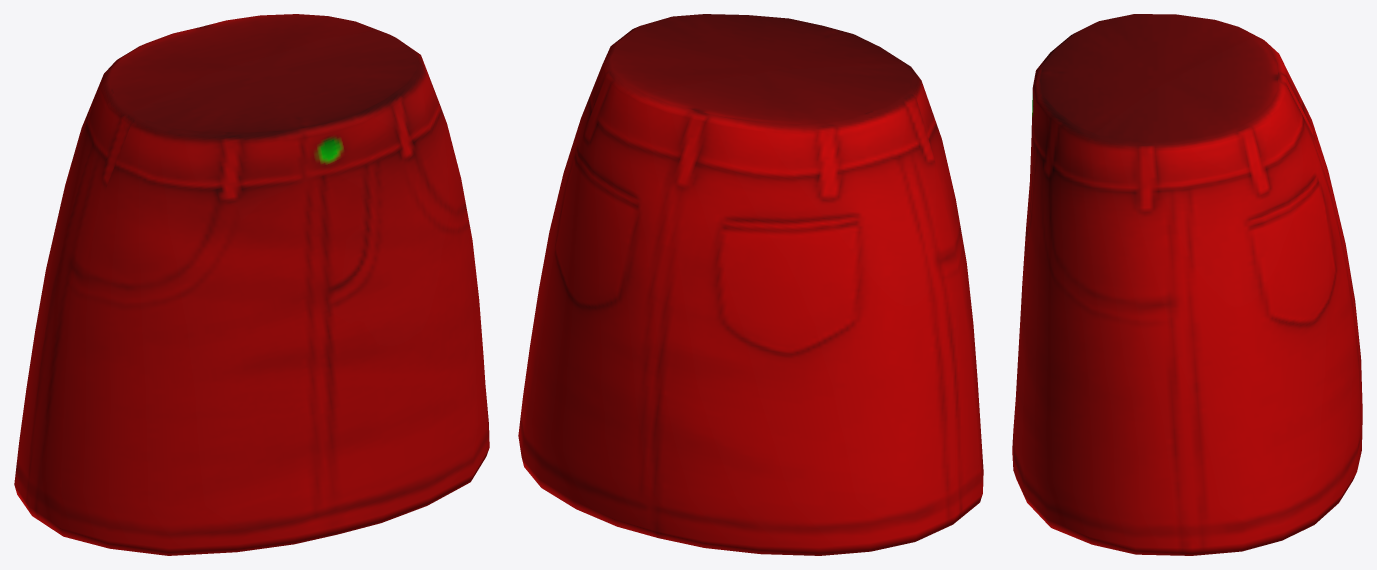
The model's file is Bottom_JeanSkirt.obj.
The picture shows the model from 3 angles, left to right: view 1: azimuth 30°, elevation 25°; view 2: azimuth 150°, elevation 25°; view 3: azimuth 270°, elevation 25°; orthographic projection. The views are drawn at different scales.
Parts seen in each view (by area): view 1: Bottom_JeanSkirt_0; view 2: Bottom_JeanSkirt_0; view 3: Bottom_JeanSkirt_0.
Part boxes in pixels (bbox=[...]): Bottom_JeanSkirt_0: bbox=[14, 14, 489, 555]; Bottom_JeanSkirt_0: bbox=[518, 14, 983, 555]; Bottom_JeanSkirt_0: bbox=[1012, 14, 1362, 555].
Size of the model in its own units: 0.4056 by 0.3658 by 0.302.
1 material, 1 textured.
